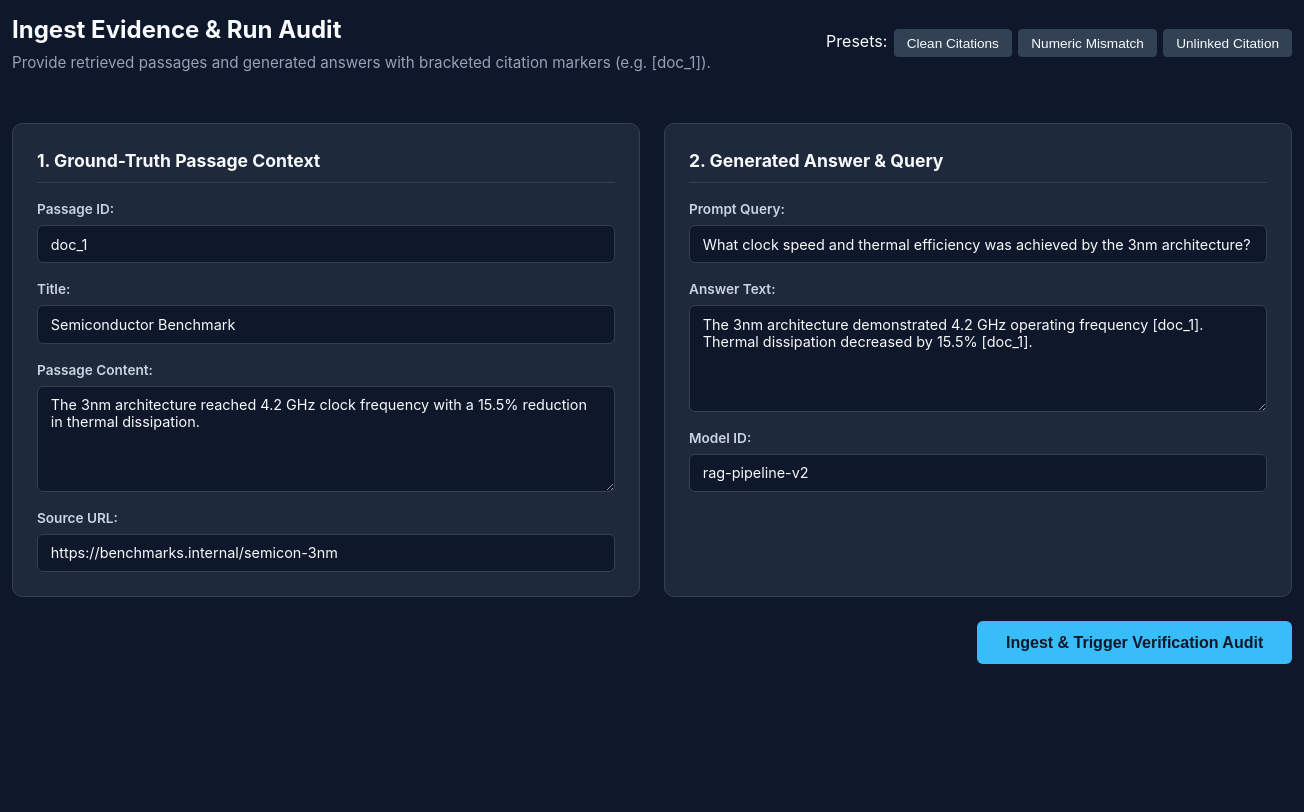
Test case: ImportWorkflow Component › loads Numeric Mismatch preset when clicked
Click the button "Numeric Mismatch".
click(1088, 43)  # box left=1018, top=29, right=1157, bottom=58
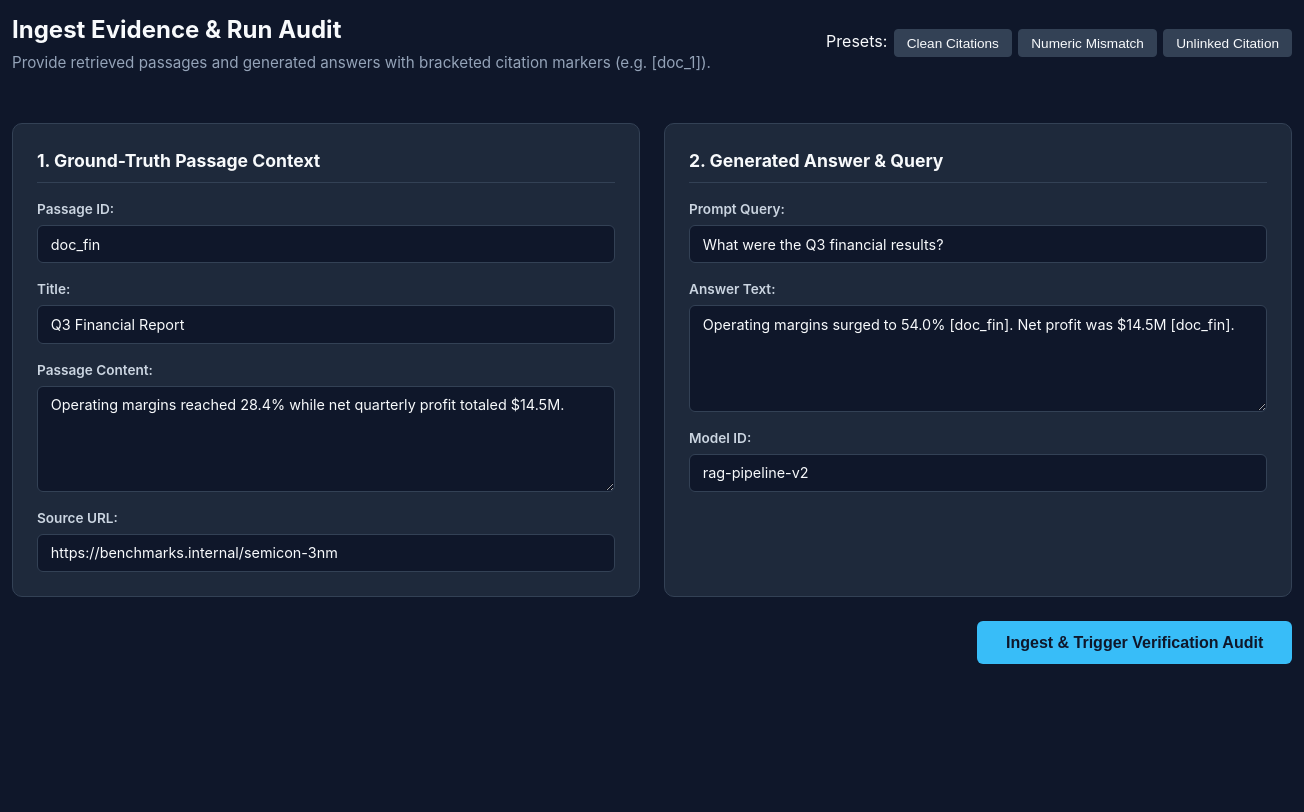
expect the field showing "doc_fin" below "Passage ID:" is shown: met, box left=37, top=225, right=615, bottom=263
expect the field showing "Q3 Financial Report" below "Title:" is shown: met, box left=37, top=305, right=615, bottom=344
expect the text box showing "Operating margins reached 28.4% while net quarterly profit totaled $14.5M." below "Passage Content:" is shown: met, box left=37, top=386, right=615, bottom=492
